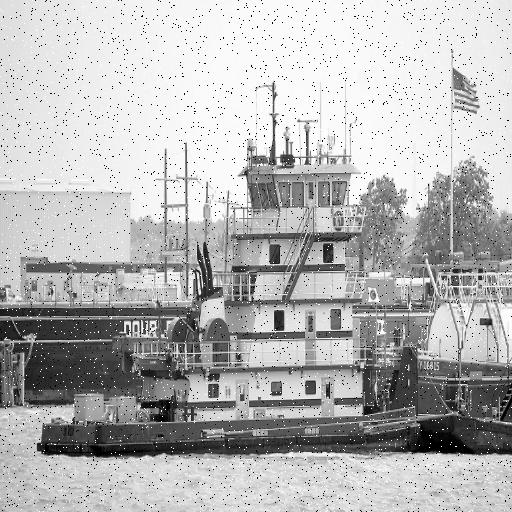tugboat: (33, 70, 429, 473)
